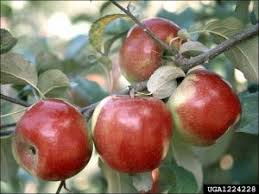tao: (92, 87, 176, 176), (11, 97, 94, 179), (171, 68, 247, 152), (111, 15, 190, 79)
